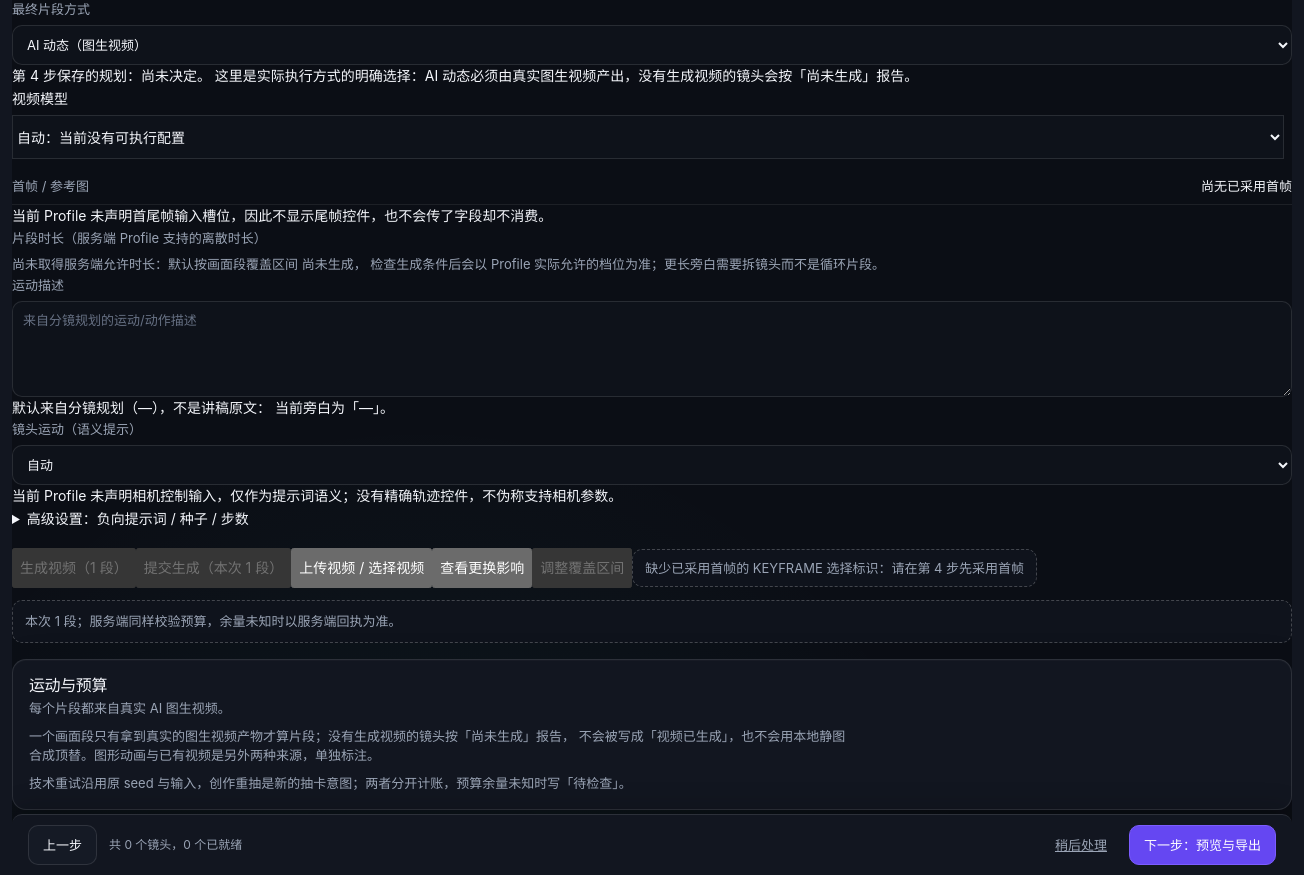
Test: clips page › shows the real server impact report instead of guessing
This screenshot has width=1304, height=875.
(page scrolled)
Click the button "查看更换影响": x=482, y=568 [432,548,532,588]
(page scrolled)
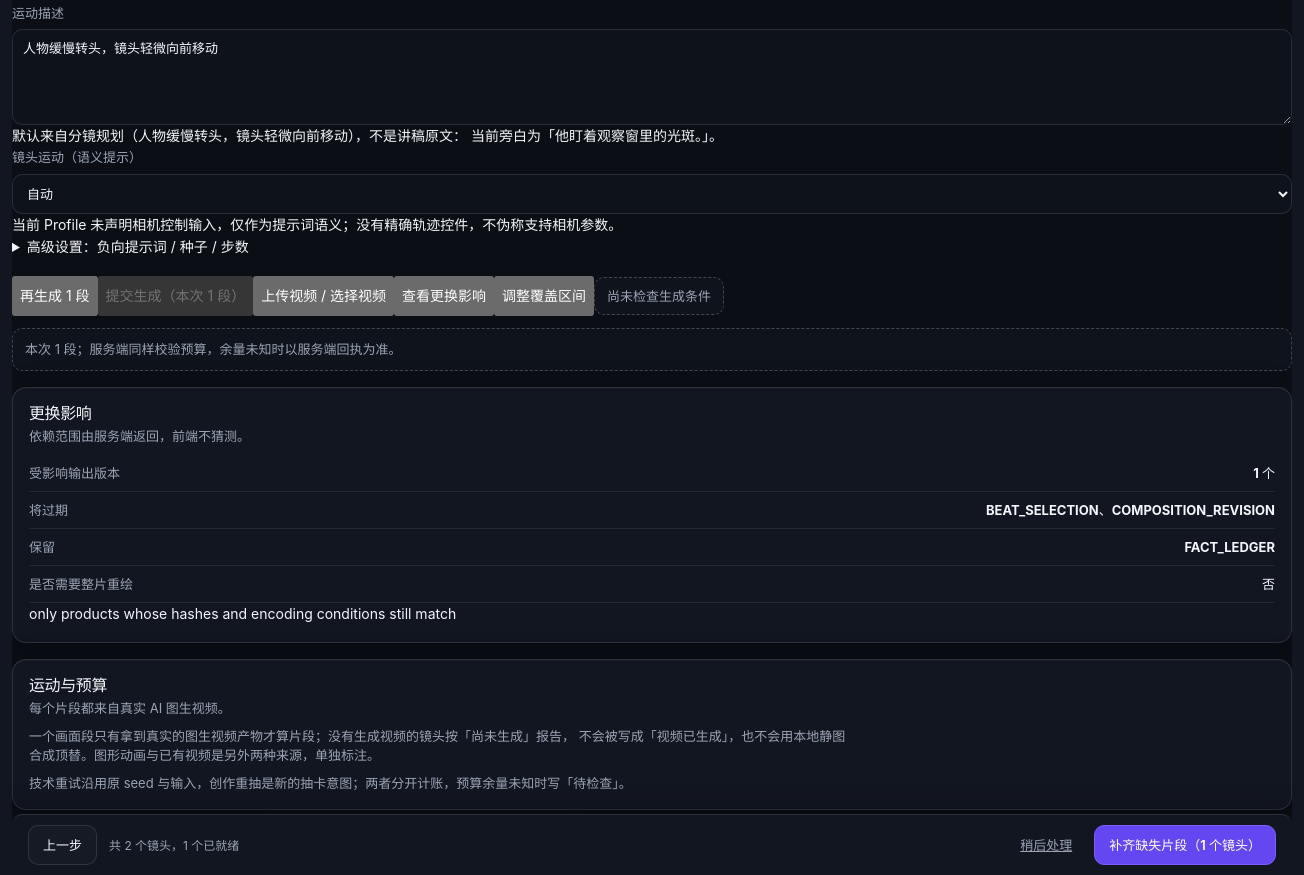
Now the element named "更换影响" is shown, box [29,455,1275,626]
Now the text "受影响输出版本" is shown, box [29,463,120,483]
Now the text "BEAT_SELECTION、COMPOSITION_REVISION" is shown, box [986,500,1275,520]
